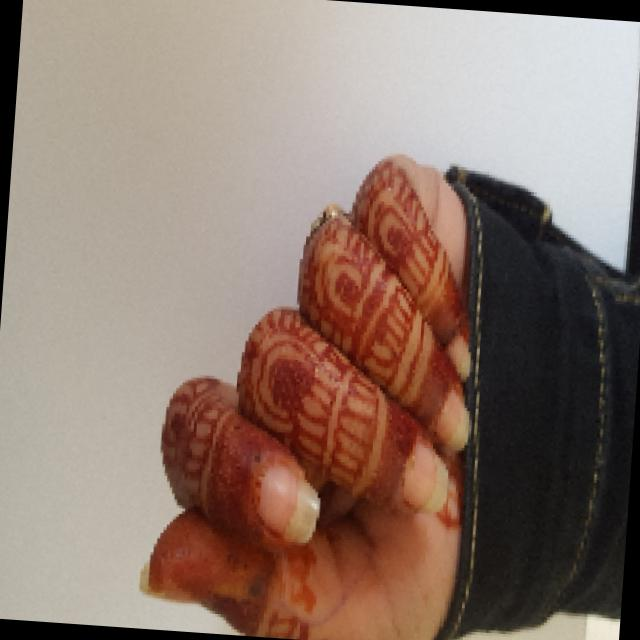Nail: (257, 462, 319, 543), (401, 441, 447, 513), (435, 392, 469, 450), (447, 333, 470, 380)
